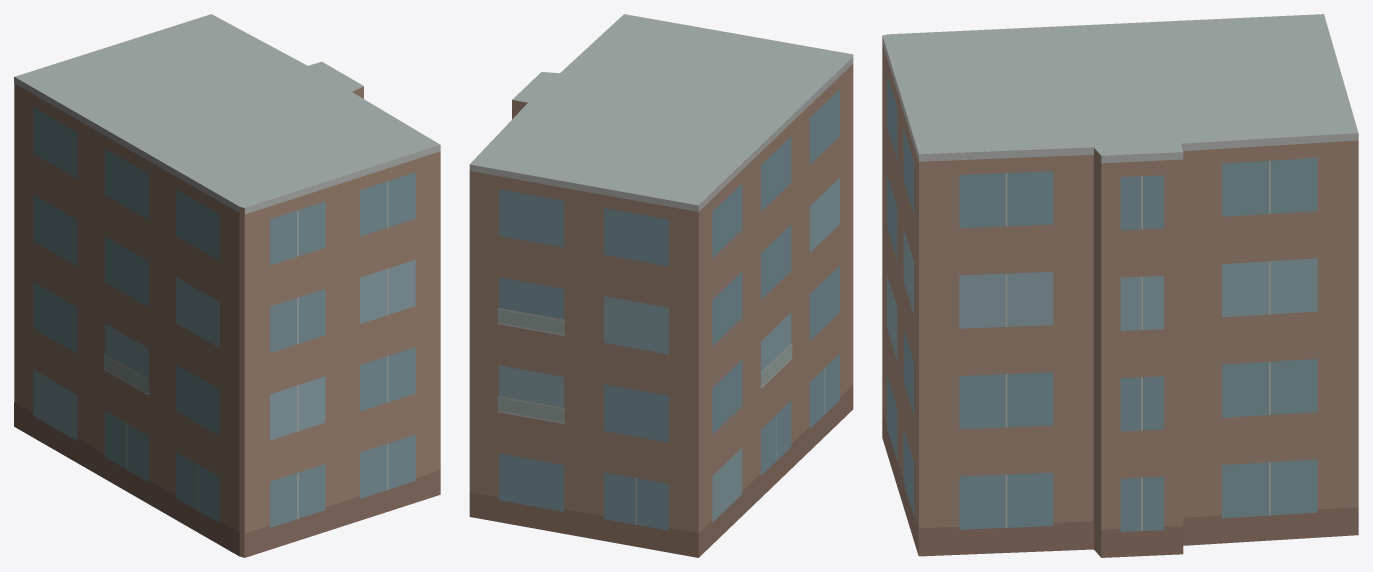
Rendered from survey-upis-32708398.glb.
3 views of the same model, side by side, from view 1: azimuth 30°, elevation 25°; view 2: azimuth 150°, elevation 25°; view 3: azimuth 270°, elevation 25° (orthographic). The views are drawn at different scales.
Visible parts, largest first — view 1: survey-upis-32708398.tmp; view 2: survey-upis-32708398.tmp; view 3: survey-upis-32708398.tmp.
Part boxes in pixels (left/top/right/bottom): survey-upis-32708398.tmp: left=14, top=14, right=440, bottom=557; survey-upis-32708398.tmp: left=469, top=14, right=853, bottom=557; survey-upis-32708398.tmp: left=882, top=14, right=1358, bottom=557.
Size of the model in its own units: 10 by 13.2 by 14.18.
